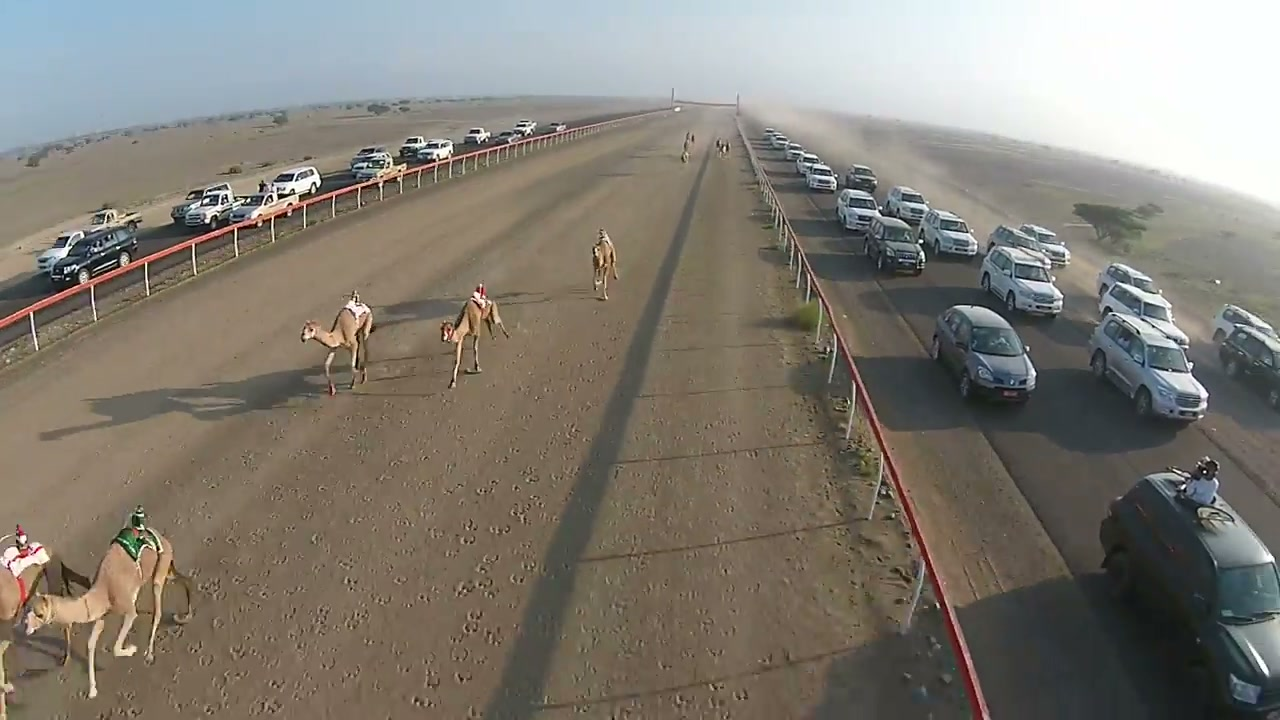animal_footprint: (406, 351, 568, 700)
